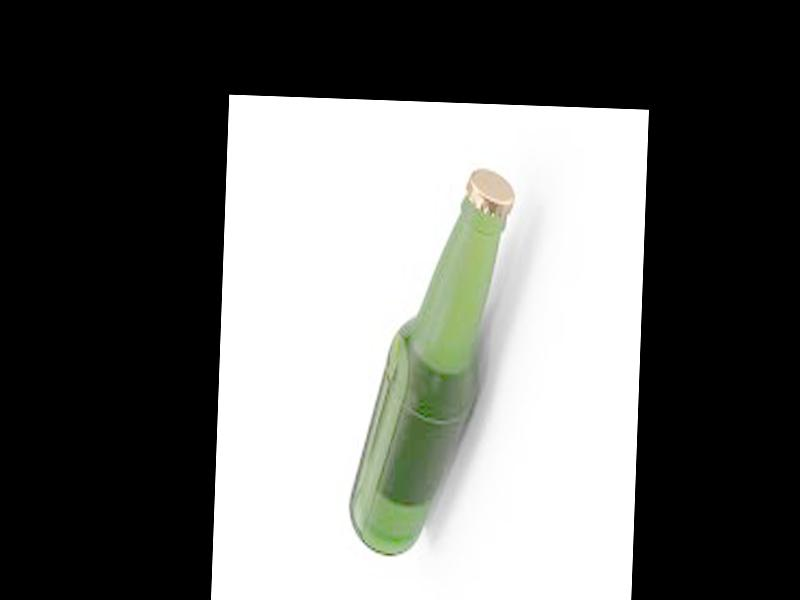Beer: (347, 161, 516, 560)
